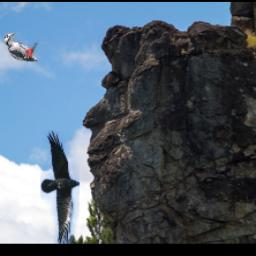Crow: (40, 130, 80, 244)
Woodpecker: (3, 33, 38, 62)
